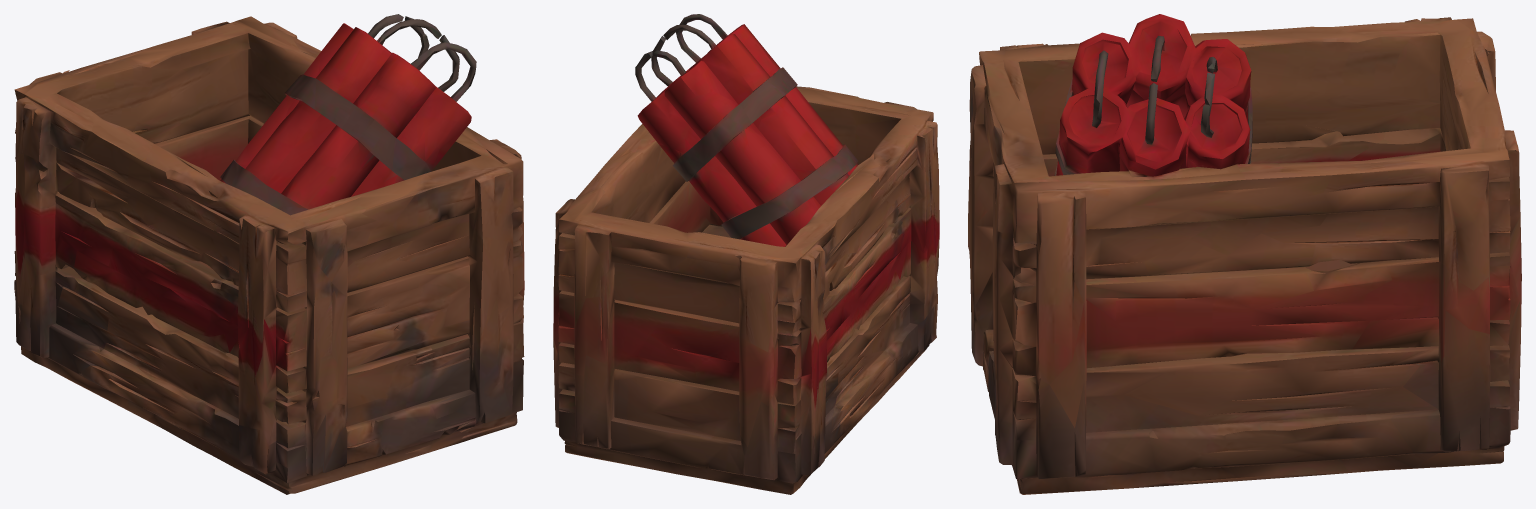
The model's file is mine_crate_dynamite_idle.glb.
3 renders of one model, left to right at view 1: azimuth 30°, elevation 25°; view 2: azimuth 150°, elevation 25°; view 3: azimuth 270°, elevation 25°, orthographic. The views are drawn at different scales.
Parts seen in each view (by area): view 1: tripo_node_97b04eca-54e0-439b-9a6d-690c2e8cffc2; view 2: tripo_node_97b04eca-54e0-439b-9a6d-690c2e8cffc2; view 3: tripo_node_97b04eca-54e0-439b-9a6d-690c2e8cffc2.
Boxes of the visible parts, x1=… form: tripo_node_97b04eca-54e0-439b-9a6d-690c2e8cffc2: x1=14, y1=14, x2=524, y2=494; tripo_node_97b04eca-54e0-439b-9a6d-690c2e8cffc2: x1=553, y1=14, x2=939, y2=494; tripo_node_97b04eca-54e0-439b-9a6d-690c2e8cffc2: x1=968, y1=14, x2=1521, y2=494.
Size of the model in its own units: 0.5556 by 0.6001 by 0.7018.
1 material, 1 textured.
